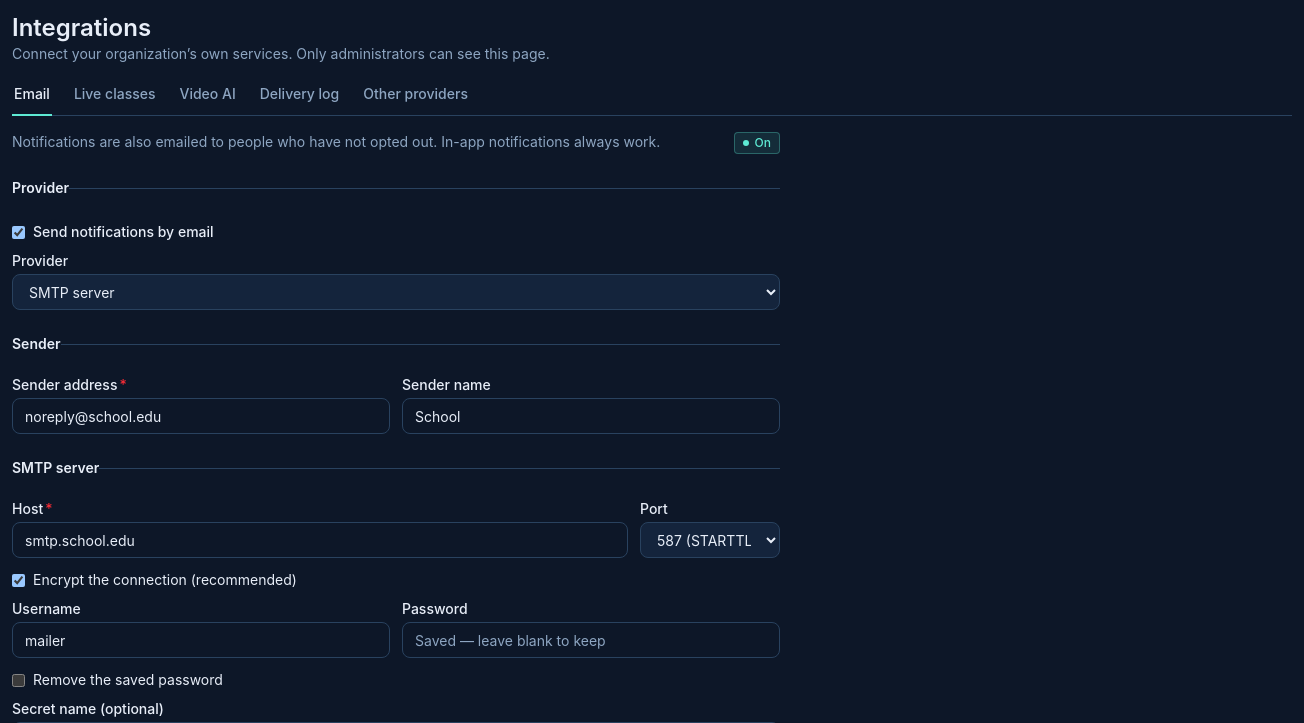
IntegrationsPage › shows the delivery log with failures explained
The width and height of the screenshot is (1304, 723).
Click the tab "Delivery log": (300, 98) [258, 80, 341, 116]
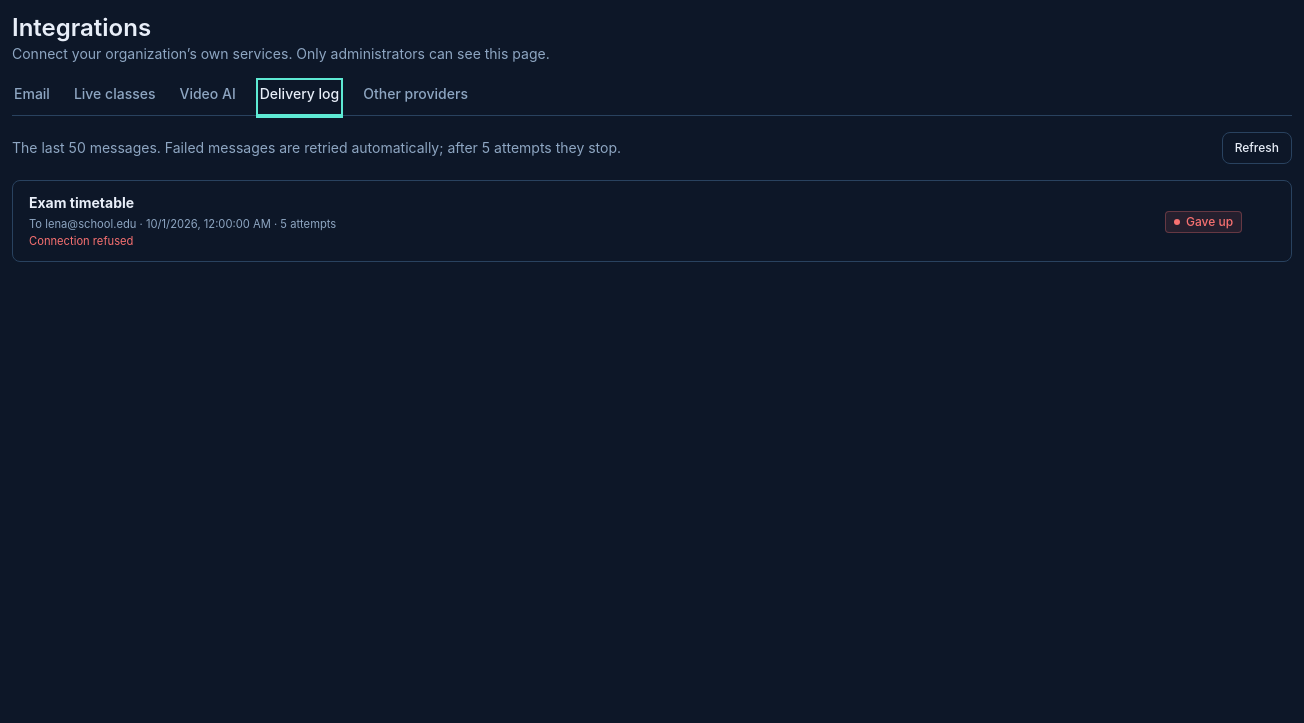
Expected: the text "Connection refused" is shown, [29, 234, 133, 248]
Expected: the text "Gave up" is shown, [1165, 210, 1242, 232]
